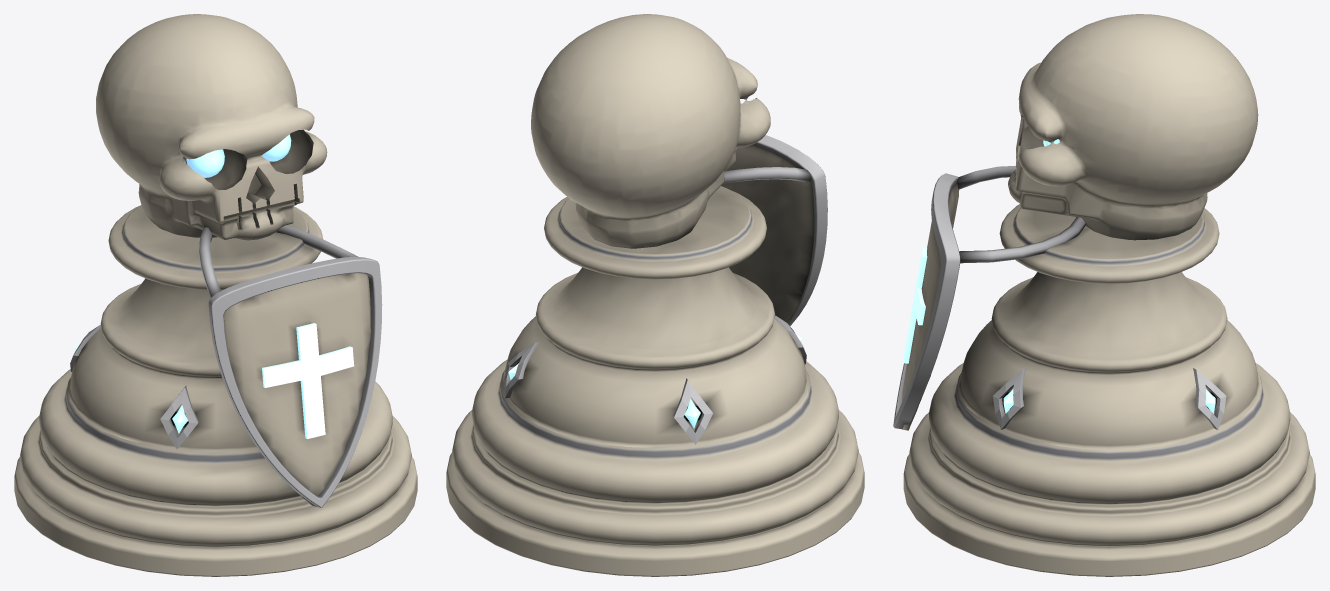
File: shieldbearer.glb
3 renders of one model, left to right at view 1: azimuth 30°, elevation 25°; view 2: azimuth 150°, elevation 25°; view 3: azimuth 270°, elevation 25°, orthographic. The views are drawn at different scales.
Parts seen in each view (by area): view 1: shieldbearer; view 2: shieldbearer; view 3: shieldbearer.
Boxes of the visible parts, x1,y1,x2,y2 form: shieldbearer: (14, 14, 417, 576); shieldbearer: (446, 14, 864, 576); shieldbearer: (893, 14, 1315, 576).
Bounding box in the file's own units: 0.72 × 0.9 × 0.7379.
